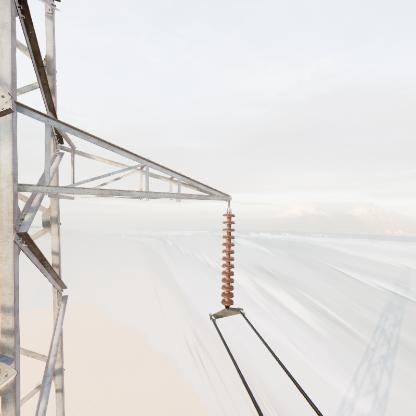insulator: (218, 209, 239, 312)
